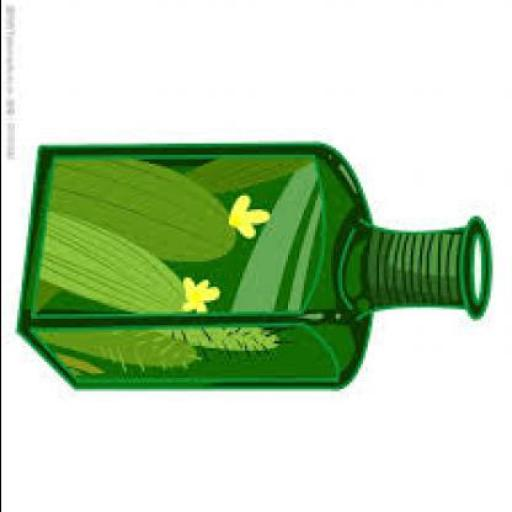glass: (18, 138, 494, 390)
